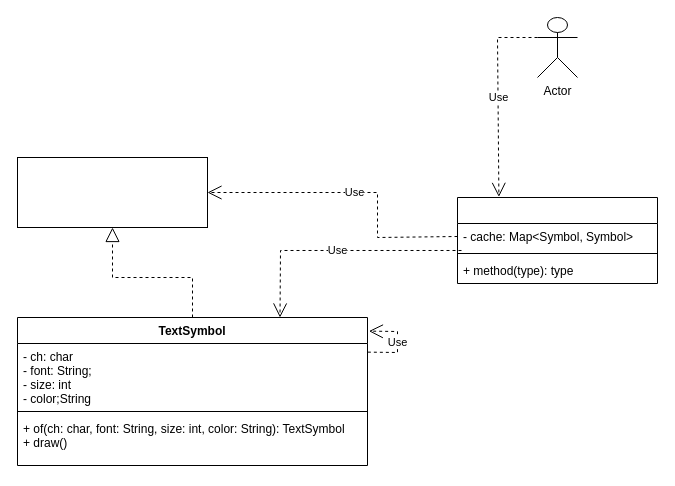
This 675x486 diagram has some shape labels left out. The shapes that lost their labels are listed below. From the top down, each one's box as (x1, y1, x2, y2) in pixels, then its label:
(16, 156, 208, 228): <<Interface>> Symbol + draw()
(456, 196, 658, 284): SymbolPool
